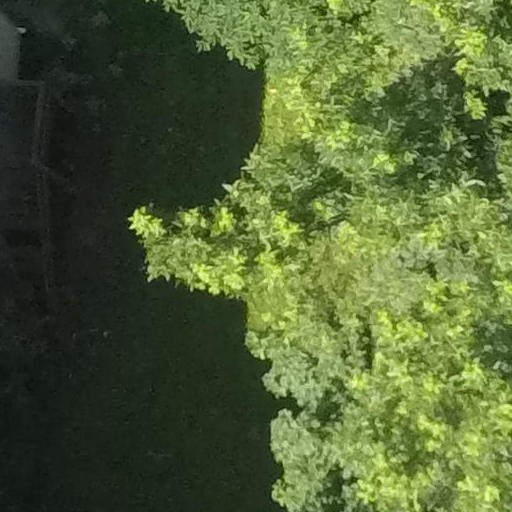porch: (1, 43, 63, 367)
